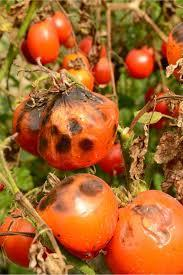tomato late blight: (13, 86, 120, 173), (37, 175, 120, 259), (106, 192, 183, 275)
